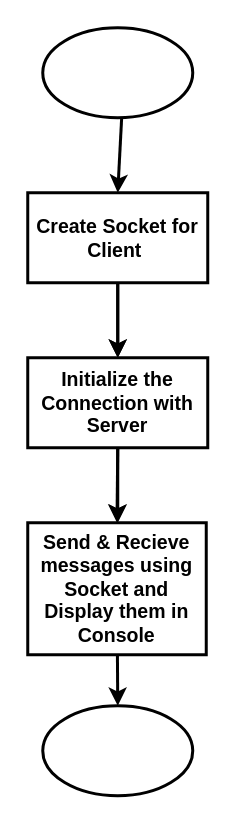
This 234x822 diagram has some shape labels left out. The centre of each missing label's shape, as x and y in pixels:
"End" belongs at point 117,750.
"Start" belongs at point 117,72.
